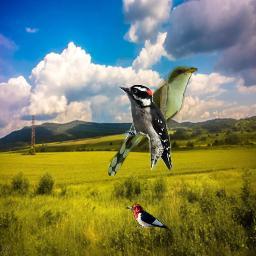Cuckoo: (108, 66, 198, 176)
Woodpecker: (118, 84, 173, 170), (125, 204, 172, 232)
